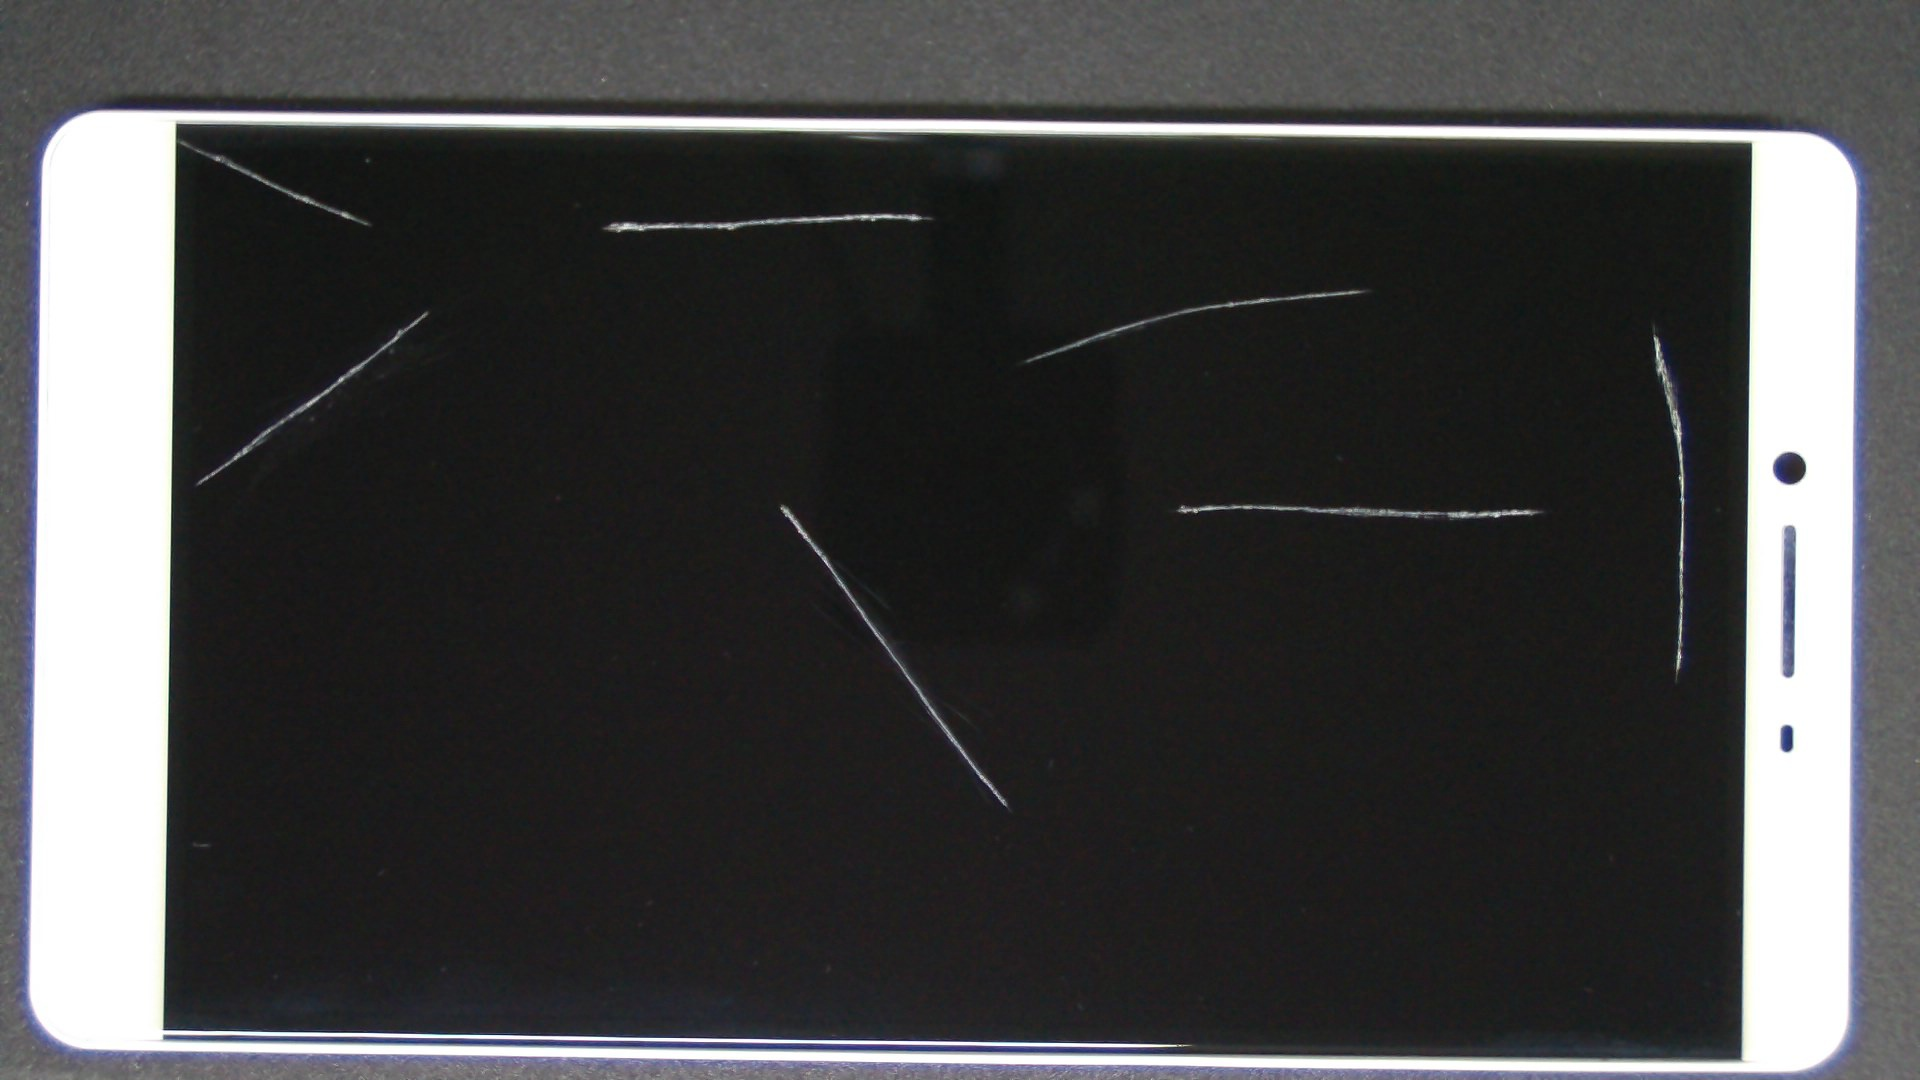oil: (591, 251, 1770, 756), (392, 251, 1174, 756), (686, 144, 1920, 434), (828, 161, 1920, 487), (443, 105, 1328, 316), (215, 154, 640, 465), (90, 69, 269, 207)
